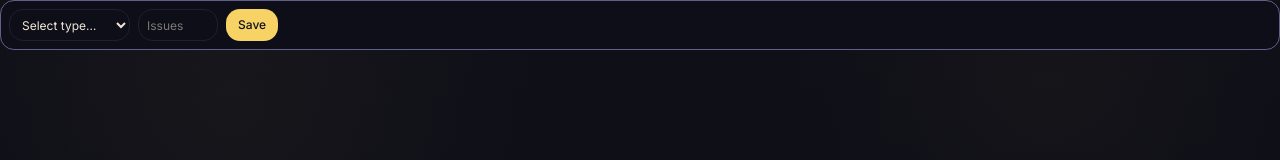
Test case: ChoreScheduleConfig › shows API error on save failure
Select "Time (days)" in the dropdown named "Schedule type". click: point(70, 25)
box: [9,9,130,41]
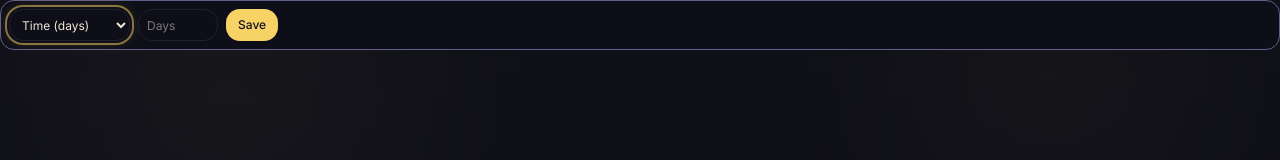
Type "14" into the number field named "Schedule value". click: point(178, 25)
box: [138,9,218,41]
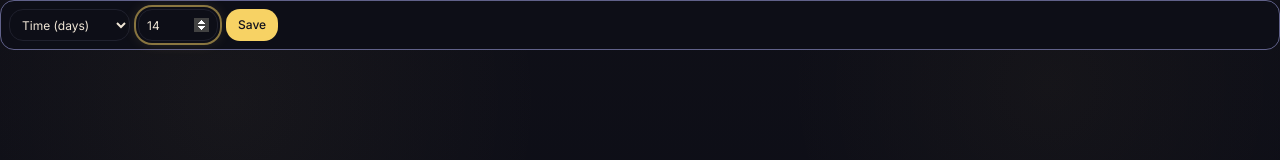
Click the button "Save". click: point(252, 25)
box: [226,9,278,41]
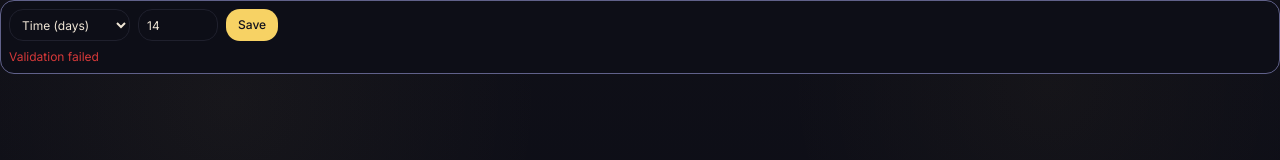
Expected: the text "Validation failed" is shown, [9,49,99,64]
